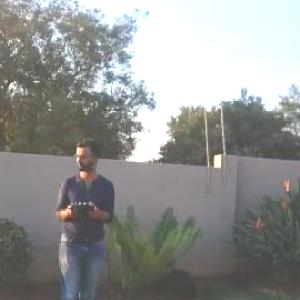follow: (47, 130, 119, 299)
